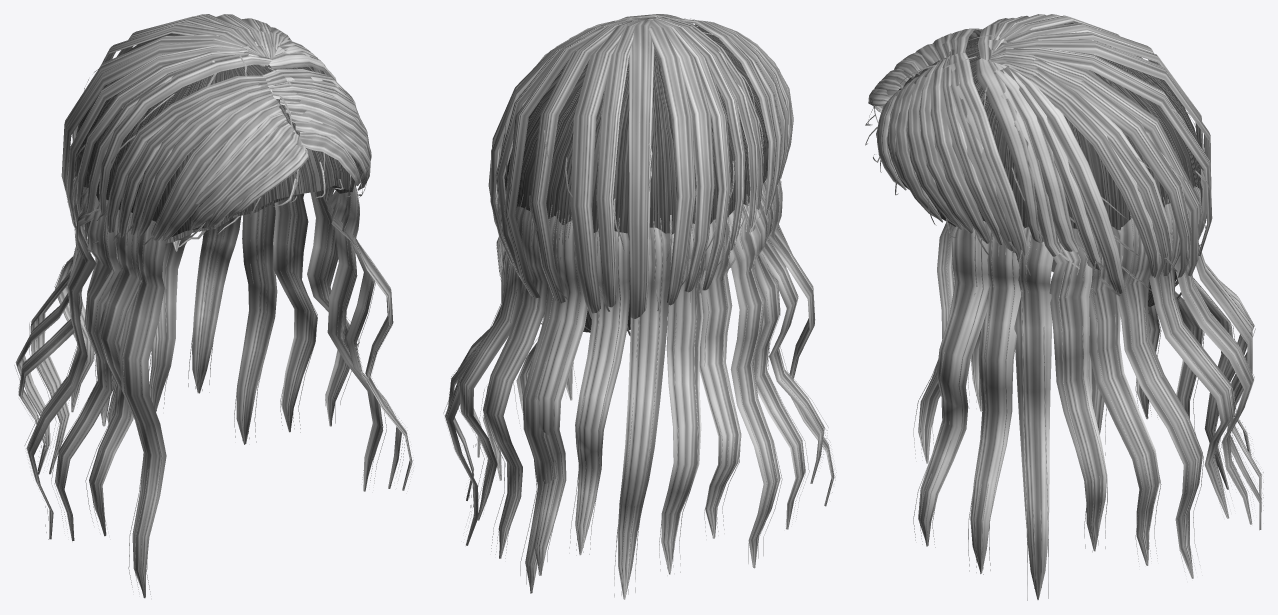
File: unified_f_swept.glb
3 views of the same model, side by side, from view 1: azimuth 30°, elevation 25°; view 2: azimuth 150°, elevation 25°; view 3: azimuth 270°, elevation 25° (orthographic). The views are drawn at different scales.
Visible parts, largest first — view 1: Hair_directional_locks, Hair_wavy_layer, Hair_scalp, Hair_wavy_layer.014, Hair_wavy_layer.002, Hair_wavy_layer.013, Hair_wavy_layer.001, Hair_wavy_layer.015, Hair_wavy_layer.003, Hair_wavy_layer.011, Hair_wavy_layer.012, Hair_wavy_layer.016 (+12 smaller); view 2: Hair_directional_locks, Hair_scalp, Hair_wavy_layer.006, Hair_wavy_layer.007, Hair_wavy_layer.005, Hair_wavy_layer.003, Hair_wavy_layer.008, Hair_wavy_layer.004, Hair_wavy_layer.016, Hair_wavy_layer.017, Hair_wavy_layer.002, Hair_wavy_layer.015 (+15 smaller); view 3: Hair_directional_locks, Hair_wavy_layer.011, Hair_wavy_layer.010, Hair_wavy_layer.012, Hair_wavy_layer.009, Hair_wavy_layer.014, Hair_wavy_layer.013, Hair_scalp, Hair_wavy_layer.015, Hair_wavy_layer.016, Hair_wavy_layer, Hair_wavy_layer.017 (+14 smaller).
Boxes of the visible parts, x1=… form: Hair_directional_locks: x1=61, y1=14, x2=371, y2=254; Hair_wavy_layer: x1=119, y1=220, x2=166, y2=598; Hair_scalp: x1=74, y1=33, x2=357, y2=243; Hair_wavy_layer.014: x1=236, y1=203, x2=277, y2=444; Hair_wavy_layer.002: x1=55, y1=199, x2=121, y2=541; Hair_wavy_layer.013: x1=273, y1=193, x2=317, y2=432; Hair_wavy_layer.001: x1=89, y1=212, x2=141, y2=536; Hair_wavy_layer.015: x1=192, y1=216, x2=241, y2=393; Hair_wavy_layer.003: x1=27, y1=187, x2=99, y2=539; Hair_wavy_layer.011: x1=327, y1=190, x2=383, y2=491; Hair_wavy_layer.012: x1=307, y1=186, x2=357, y2=426; Hair_wavy_layer.016: x1=149, y1=233, x2=191, y2=411; Hair_directional_locks: x1=488, y1=14, x2=793, y2=326; Hair_scalp: x1=504, y1=25, x2=768, y2=332; Hair_wavy_layer.006: x1=617, y1=227, x2=671, y2=599; Hair_wavy_layer.007: x1=575, y1=231, x2=629, y2=555; Hair_wavy_layer.005: x1=661, y1=223, x2=705, y2=574; Hair_wavy_layer.003: x1=728, y1=204, x2=780, y2=568; Hair_wavy_layer.008: x1=534, y1=220, x2=587, y2=575; Hair_wavy_layer.004: x1=698, y1=217, x2=741, y2=538; Hair_wavy_layer.016: x1=483, y1=206, x2=547, y2=558; Hair_wavy_layer.017: x1=522, y1=216, x2=568, y2=593; Hair_wavy_layer.002: x1=748, y1=194, x2=805, y2=529; Hair_wavy_layer.015: x1=459, y1=192, x2=522, y2=520; Hair_directional_locks: x1=868, y1=14, x2=1212, y2=299; Hair_wavy_layer.011: x1=1014, y1=226, x2=1053, y2=599; Hair_wavy_layer.010: x1=970, y1=230, x2=1022, y2=573; Hair_wavy_layer.012: x1=1049, y1=228, x2=1107, y2=551; Hair_wavy_layer.009: x1=918, y1=221, x2=990, y2=546; Hair_wavy_layer.014: x1=1117, y1=218, x2=1202, y2=578; Hair_wavy_layer.013: x1=1086, y1=226, x2=1159, y2=565; Hair_scalp: x1=876, y1=36, x2=1203, y2=306; Hair_wavy_layer.015: x1=1149, y1=203, x2=1234, y2=518; Hair_wavy_layer.016: x1=1174, y1=186, x2=1253, y2=524; Hair_wavy_layer: x1=918, y1=222, x2=955, y2=463; Hair_wavy_layer.017: x1=1196, y1=169, x2=1261, y2=530.
Size of the model in its own units: 0.1196 by 0.1718 by 0.1244.
2 materials, 2 textured.
